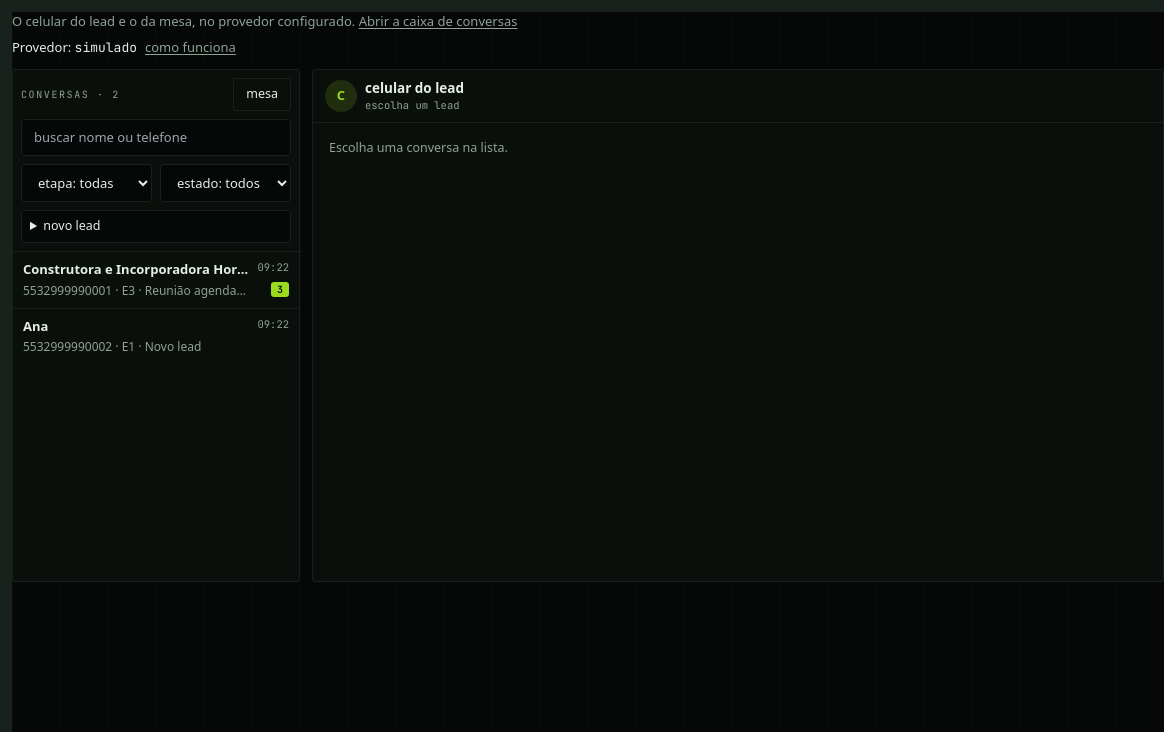
WhatsApp do comercial: três colunas no desktop, uma por vez no celular › busca e filtro de estado reduzem a lista; sem resultado, diz
Expected: the button with test id "whats-conversa-lead-ana" is shown, [13,308,299,364]
In the search field with test id "whats-busca": (156, 138) [21,119,291,156], type "ana"
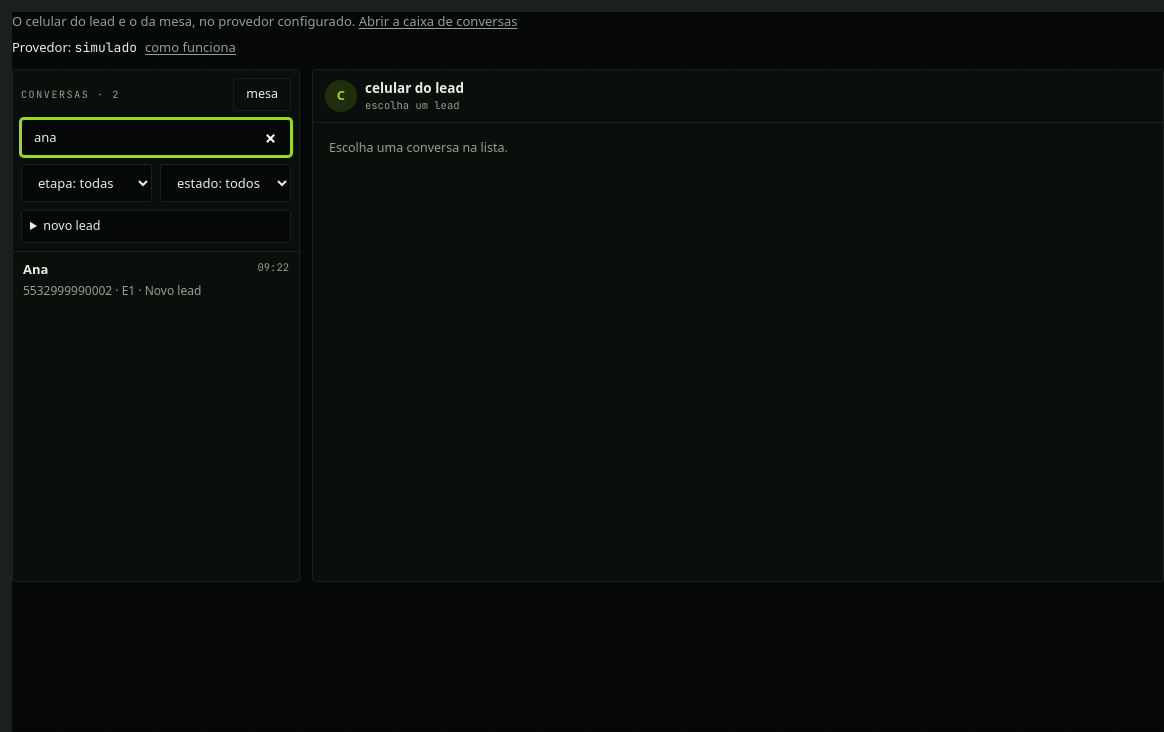
Expected: the button with test id "whats-conversa-lead-ana" is shown, [13,252,299,308]
Expected: the button with test id "whats-conversa-lead-longo" is gone
Clear the search field with test id "whats-busca": (156, 138) [21,119,291,156]
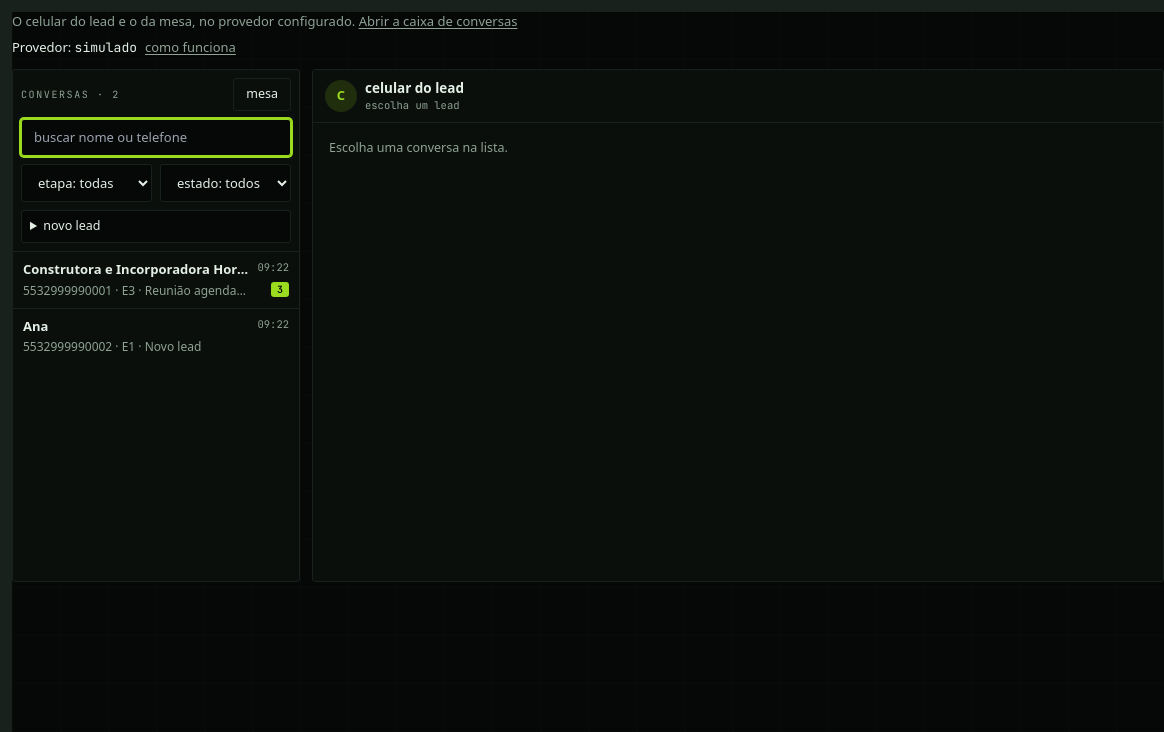
Select "com fila" in the dropdown with test id "whats-filtro-estado": (226, 183) [160,164,291,202]
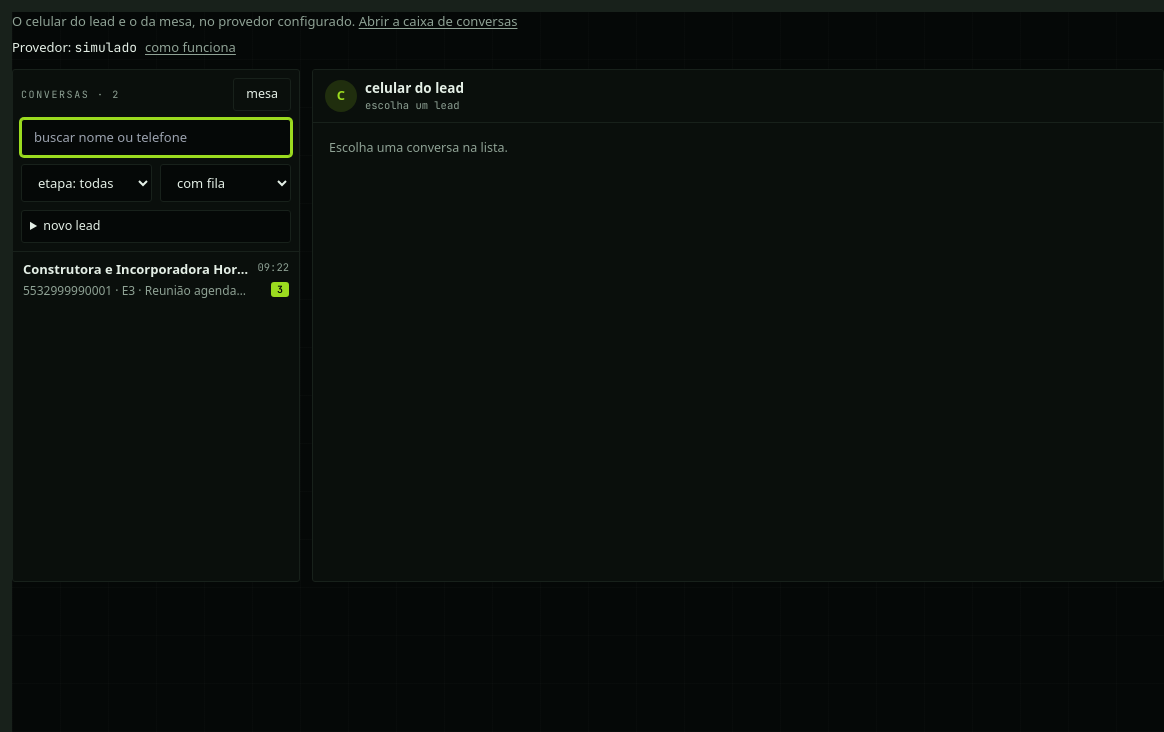
Expected: the button with test id "whats-conversa-lead-longo" is shown, [13,252,299,308]
Expected: the button with test id "whats-conversa-lead-ana" is gone
In the search field with test id "whats-busca": (156, 138) [21,119,291,156], type "zzz"
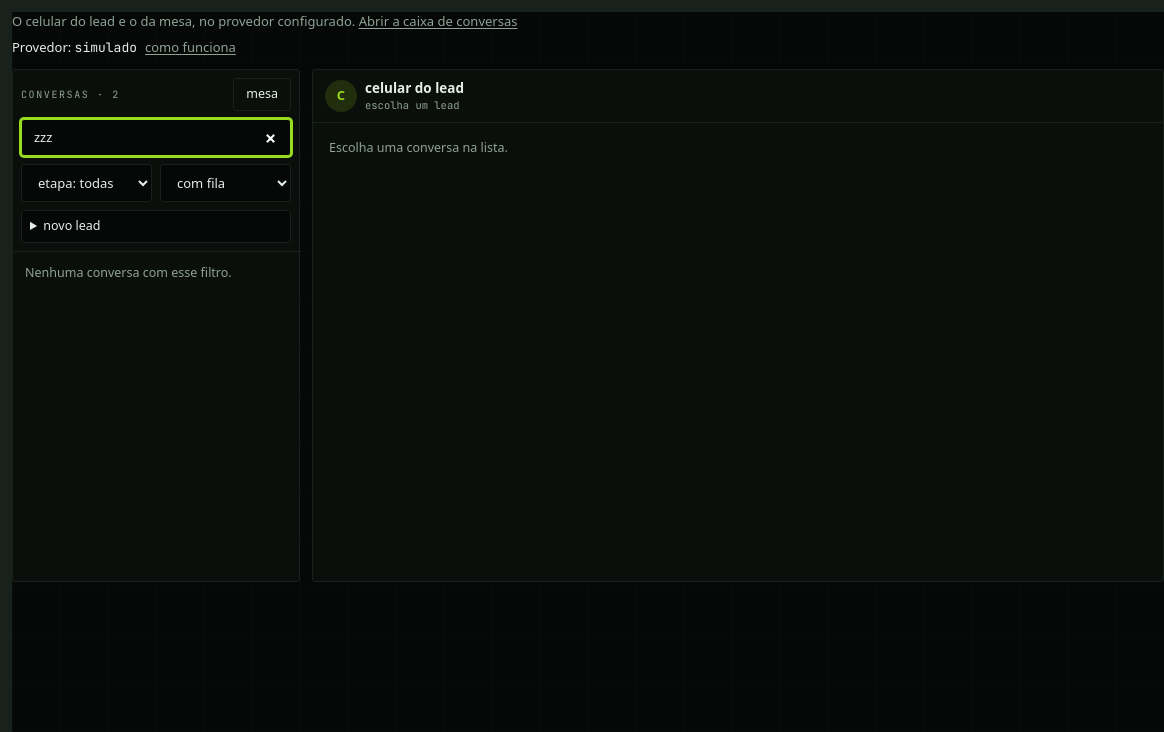
Expected: the list item "Nenhuma conversa com esse filtro." is shown, [25,264,232,281]
